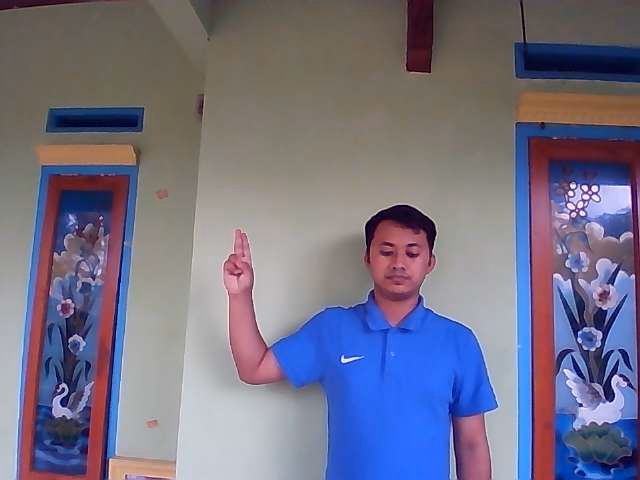U: (222, 228, 253, 293)
